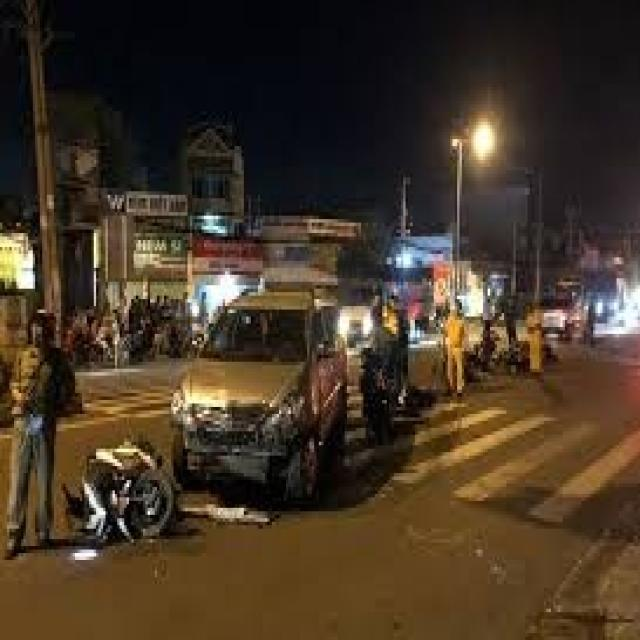accident: (48, 362, 378, 571)
